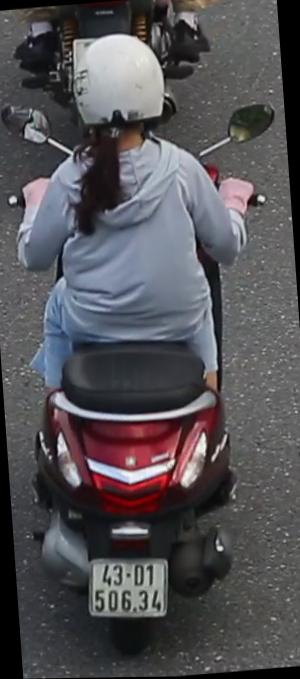LP: (85, 546, 176, 630)
helmet: (66, 26, 170, 152)
